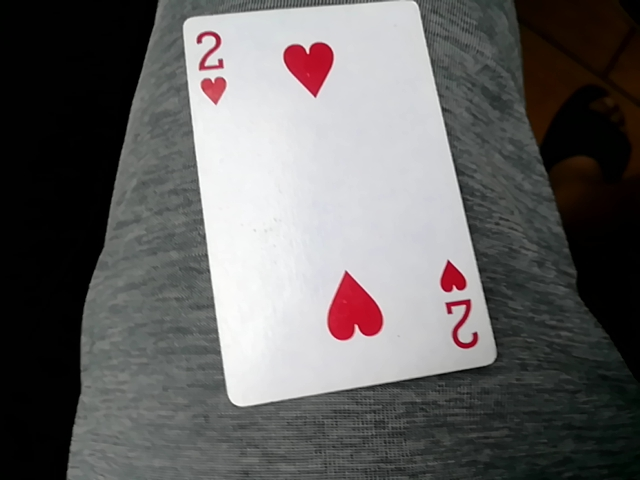hx 2: (175, 7, 491, 412)
